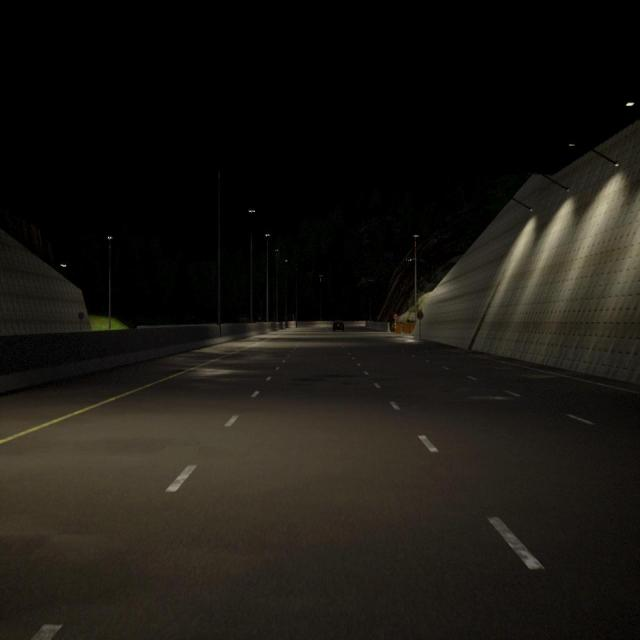Traffic_Signs: (417, 310, 423, 320), (78, 312, 84, 319), (393, 314, 398, 320)
Vehicle: (333, 320, 344, 332)
